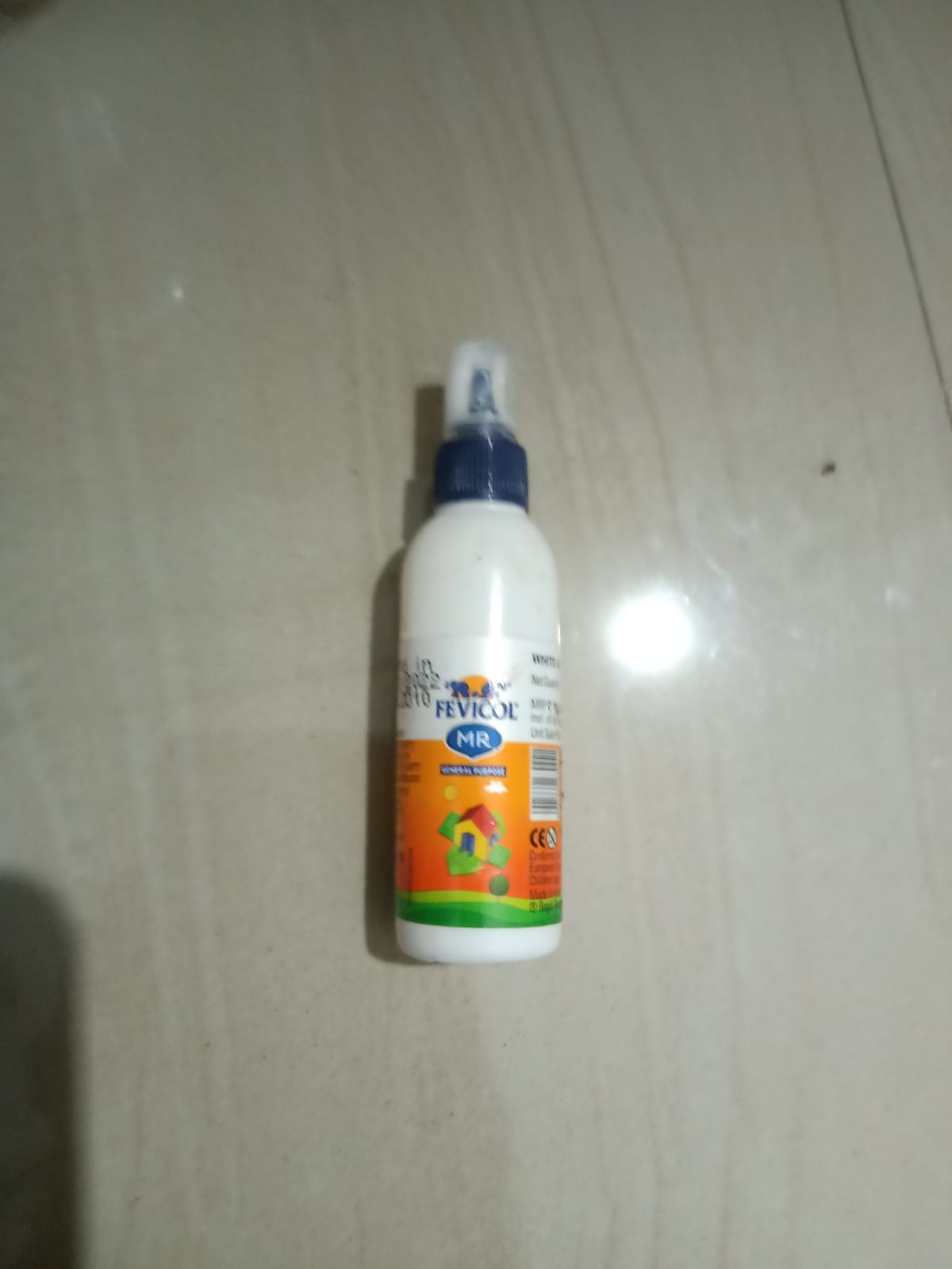plastic: (313, 278, 693, 1079)
